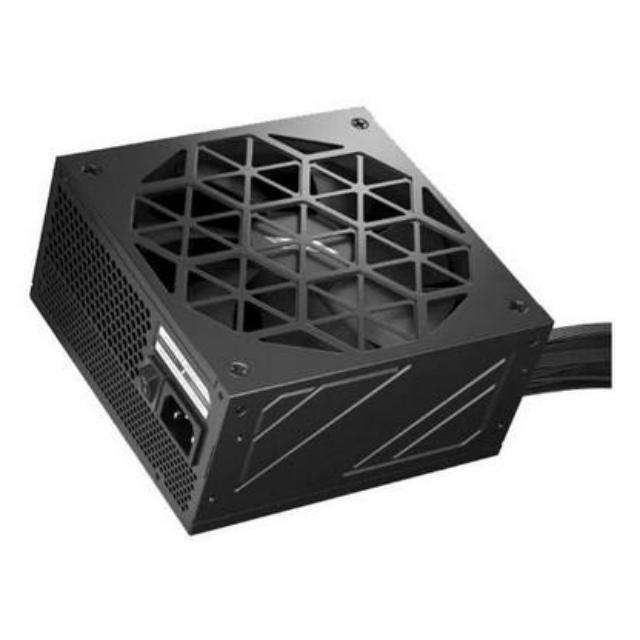PSU: (29, 97, 562, 543)
